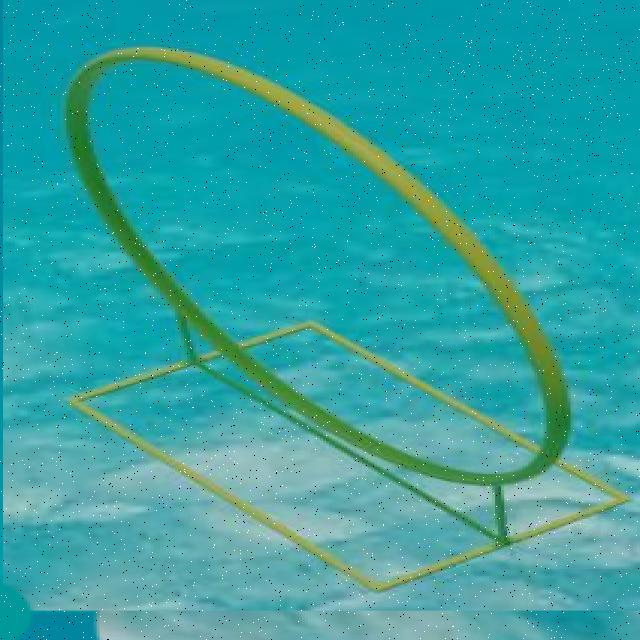Circle: (63, 52, 578, 485)
